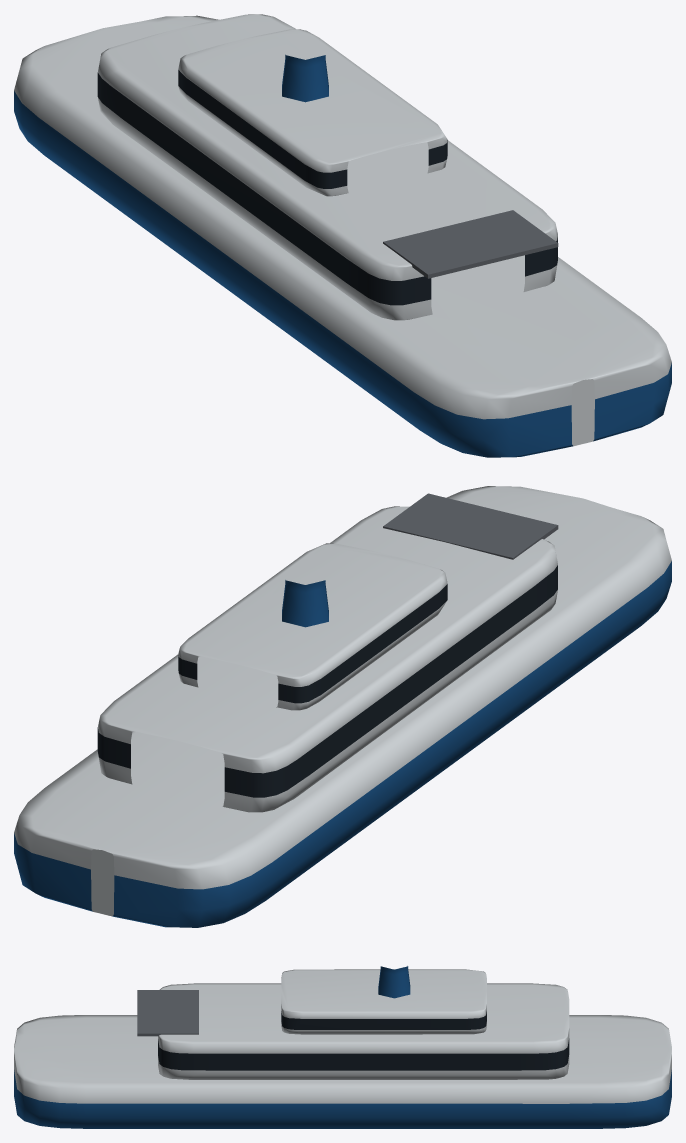
File: mobile-low.glb
3 renders of one model, top to bottom at view 1: azimuth 30°, elevation 25°; view 2: azimuth 150°, elevation 25°; view 3: azimuth 270°, elevation 25°, orthographic. The views are drawn at different scales.
Parts seen in each view (by area): view 1: transit.ferry; view 2: transit.ferry; view 3: transit.ferry.
Boxes of the visible parts, x1,y1,x2,y2 form: transit.ferry: (14,14,671,457); transit.ferry: (14,486,671,927); transit.ferry: (14,966,671,1128).
Size of the model in its own units: 8.99 by 7 by 32.
